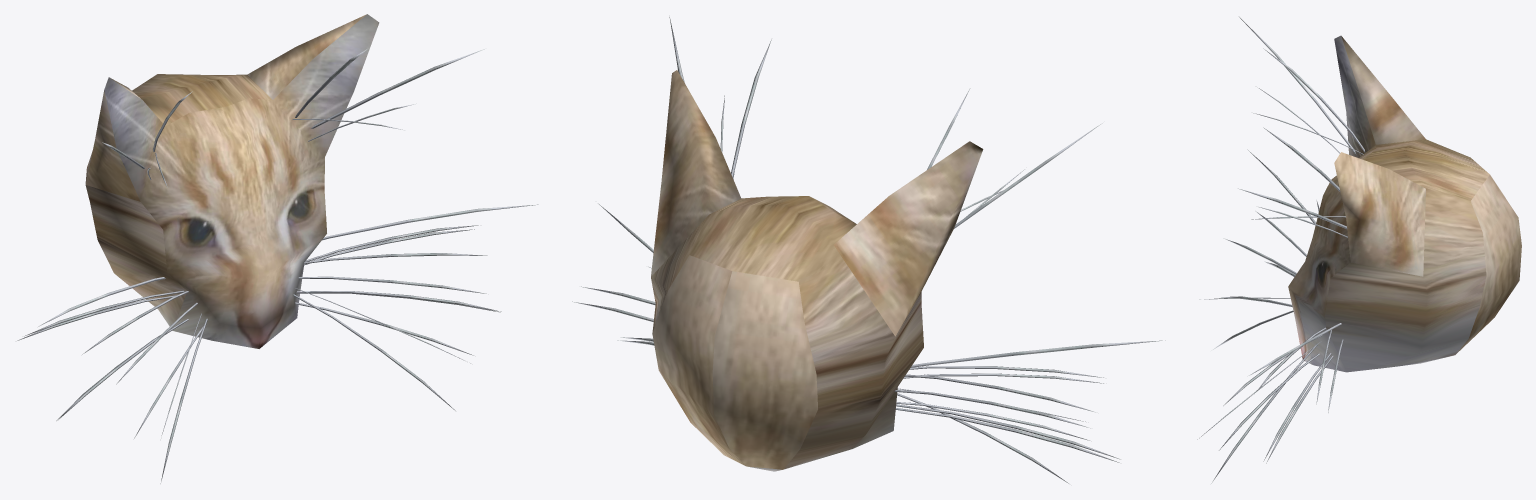
Rendered from creature_fbx.fbx.
The picture shows the model from 3 angles, left to right: view 1: azimuth 30°, elevation 25°; view 2: azimuth 150°, elevation 25°; view 3: azimuth 270°, elevation 25°; orthographic projection. The views are drawn at different scales.
Visible parts, largest first — view 1: pSphere1, pCube58, pCube57; view 2: pSphere1, pCube57, pCube58; view 3: pSphere1, pCube58, pCube57.
Part boxes in pixels (bbox=[...]): pSphere1: bbox=[85, 14, 379, 348]; pCube58: bbox=[292, 49, 538, 410]; pCube57: bbox=[17, 91, 207, 483]; pSphere1: bbox=[651, 70, 983, 471]; pCube57: bbox=[894, 88, 1165, 483]; pCube58: bbox=[572, 17, 771, 345]; pSphere1: bbox=[1288, 35, 1521, 372]; pCube58: bbox=[1197, 127, 1347, 483]; pCube57: bbox=[1199, 17, 1365, 350].
Size of the model in its own units: 60.79 by 41.34 by 36.91.
